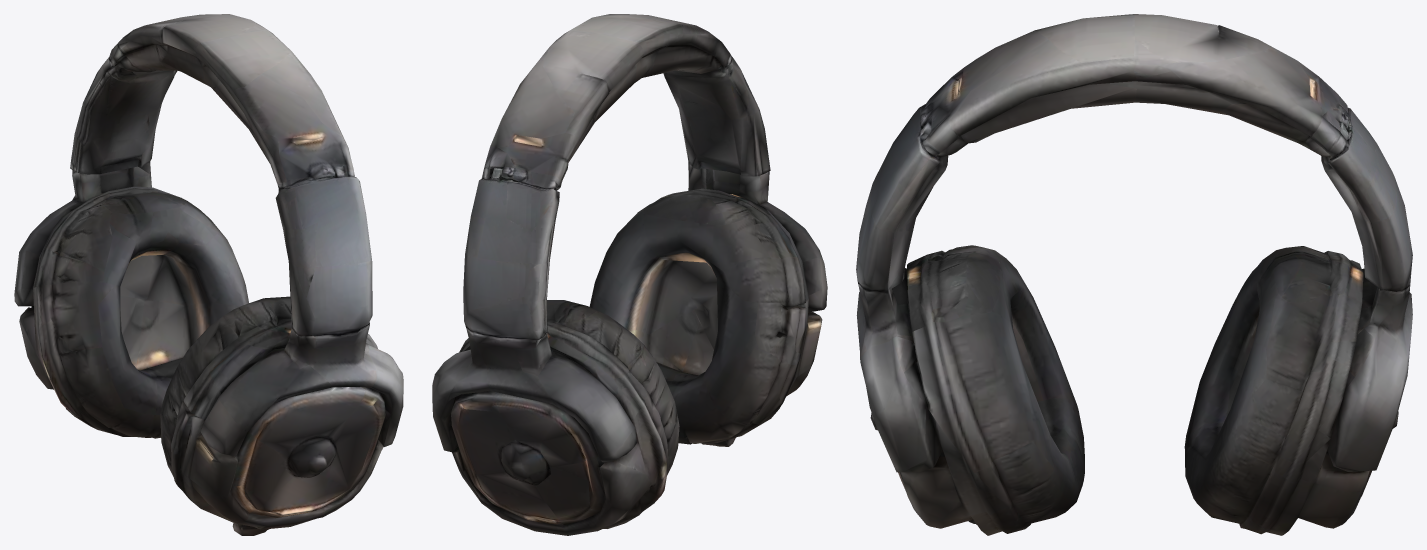
The model's file is headset_phones.glb.
3 views of the same model, side by side, from view 1: azimuth 30°, elevation 25°; view 2: azimuth 150°, elevation 25°; view 3: azimuth 270°, elevation 25° (orthographic). The views are drawn at different scales.
Parts seen in each view (by area): view 1: tripo_node_79d59f74-1622-401c-847e-9c871769be4d; view 2: tripo_node_79d59f74-1622-401c-847e-9c871769be4d; view 3: tripo_node_79d59f74-1622-401c-847e-9c871769be4d.
Part boxes in pixels (bbox=[...]): tripo_node_79d59f74-1622-401c-847e-9c871769be4d: bbox=[14, 14, 403, 535]; tripo_node_79d59f74-1622-401c-847e-9c871769be4d: bbox=[432, 14, 827, 535]; tripo_node_79d59f74-1622-401c-847e-9c871769be4d: bbox=[856, 14, 1412, 535].
Bounding box in the file's own units: 0.4589 × 0.9744 × 0.9543.
1 material, 1 textured.
